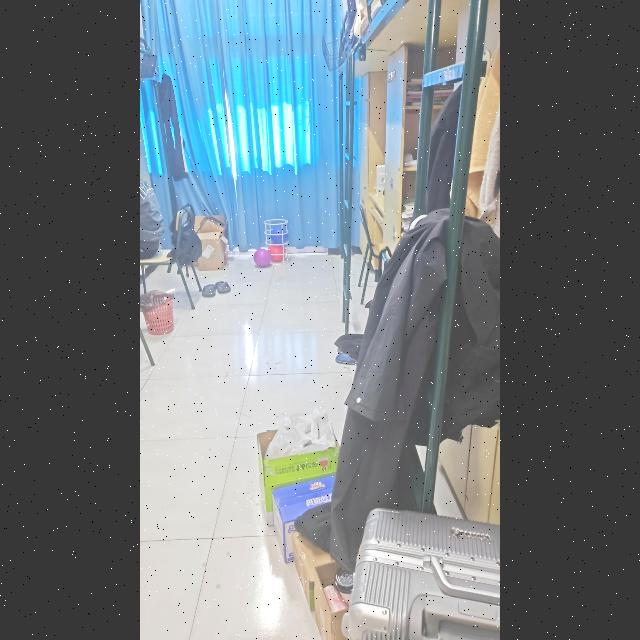B: (268, 220, 288, 242)
R: (253, 248, 270, 270), (267, 244, 285, 262)
S: (265, 218, 289, 264)
